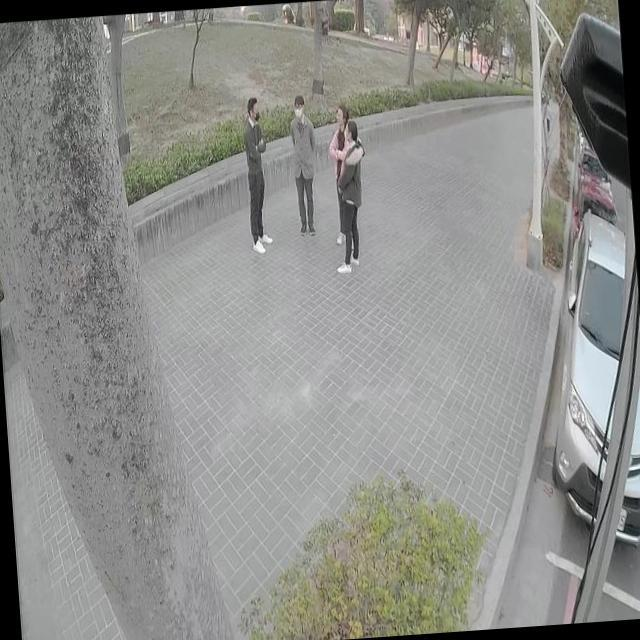person: (321, 114, 372, 280), (240, 93, 272, 251), (285, 93, 321, 233), (324, 99, 358, 247)
